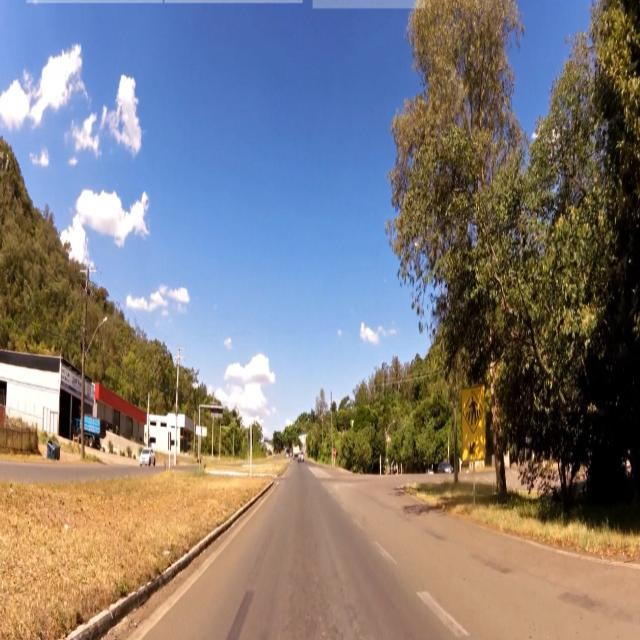A-32b: (464, 393, 484, 432)
